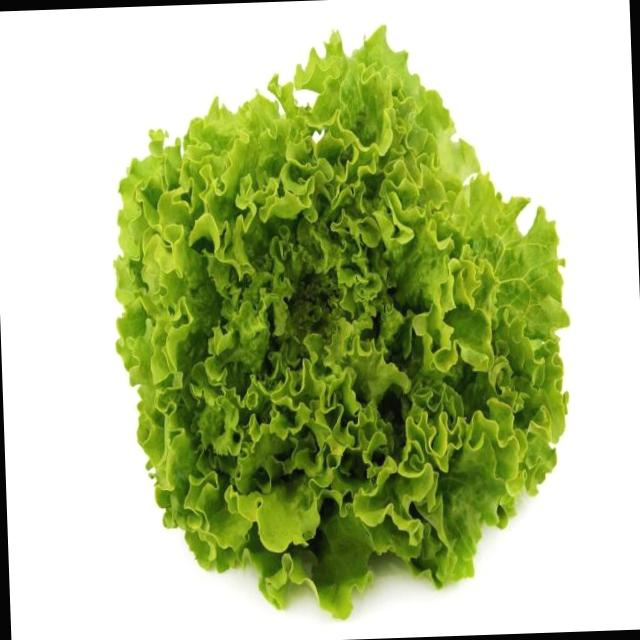Lettuce-Ready-to-Harvest: (115, 29, 568, 617)
